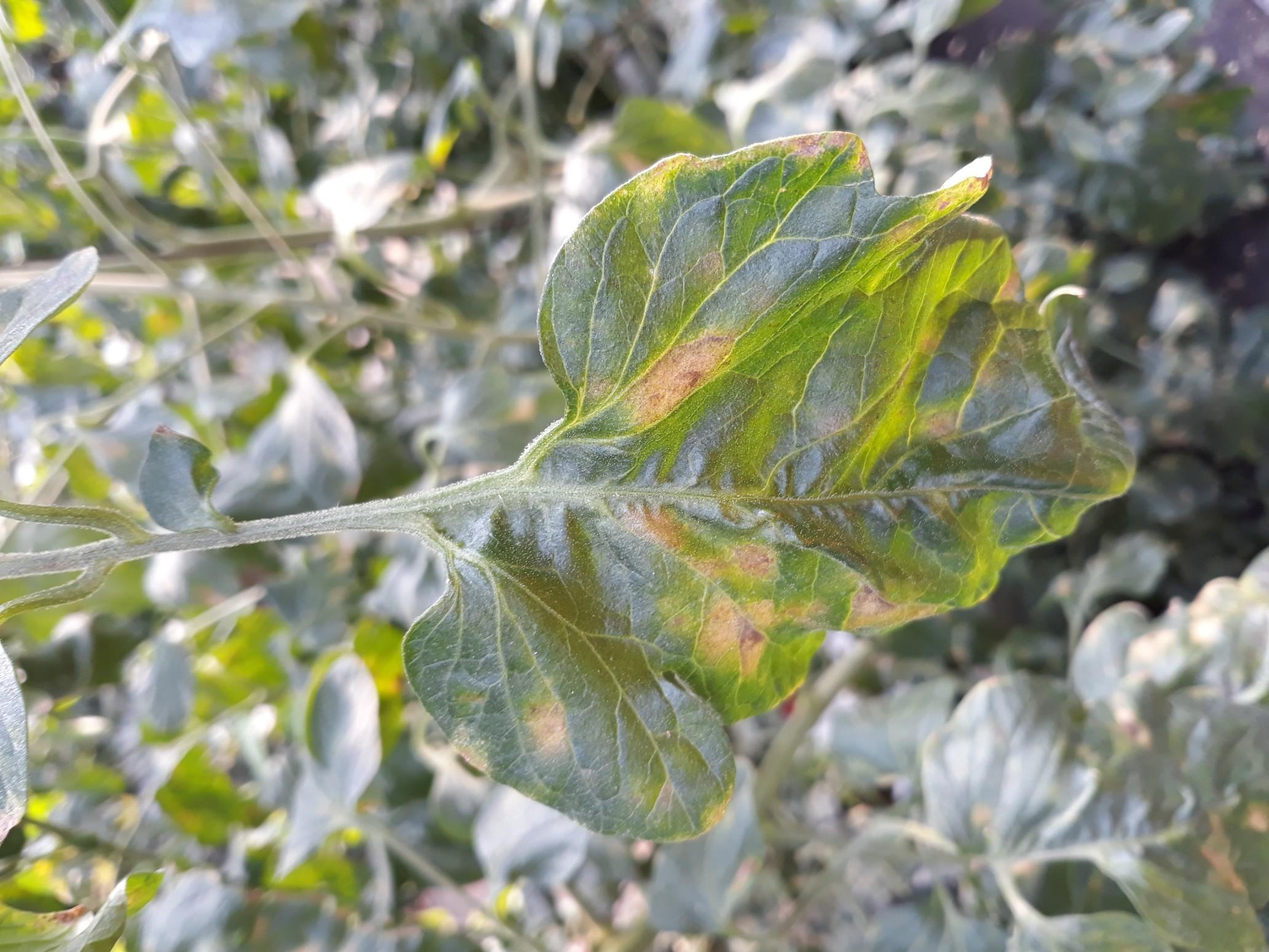Leaf Mold: (143, 300, 1094, 858)
